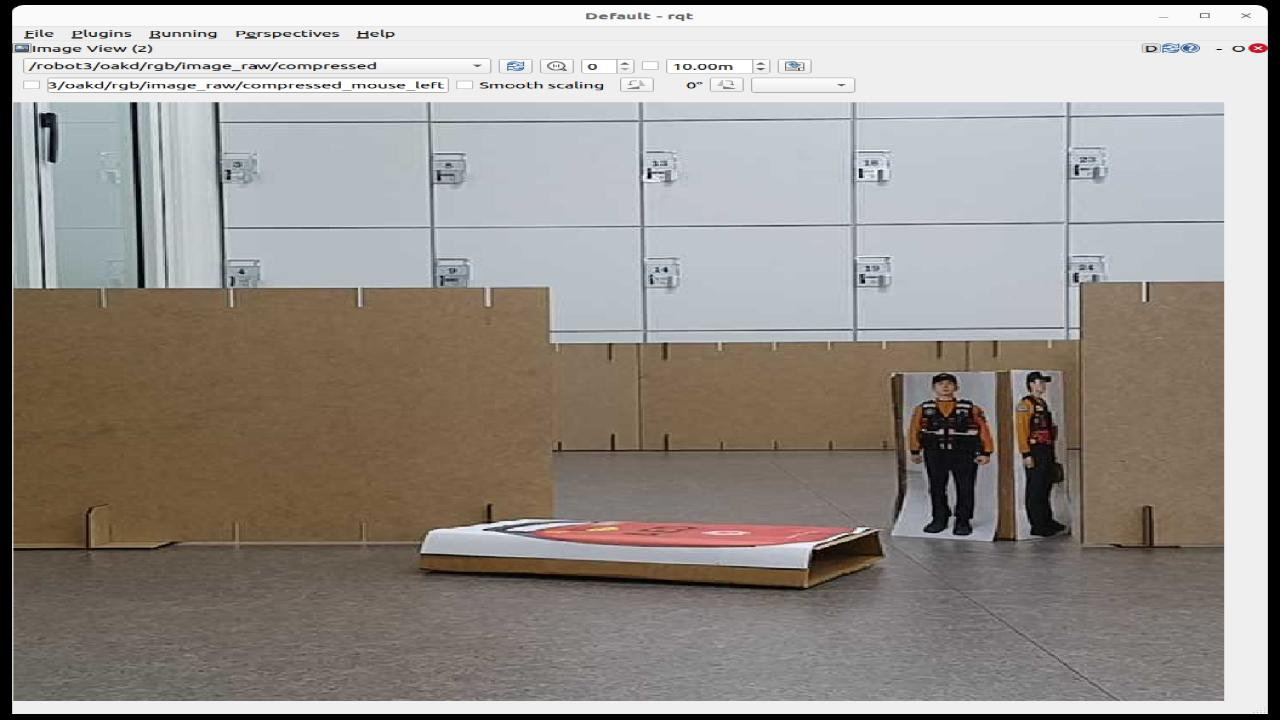AED: (420, 518, 882, 588)
Responder: (908, 374, 992, 535), (1016, 373, 1064, 537)
